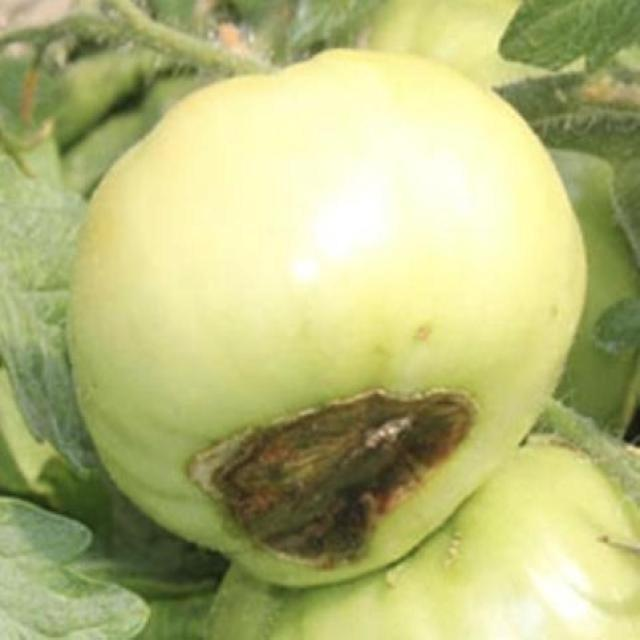Blossom End Rot Fruit: (121, 252, 317, 381)
